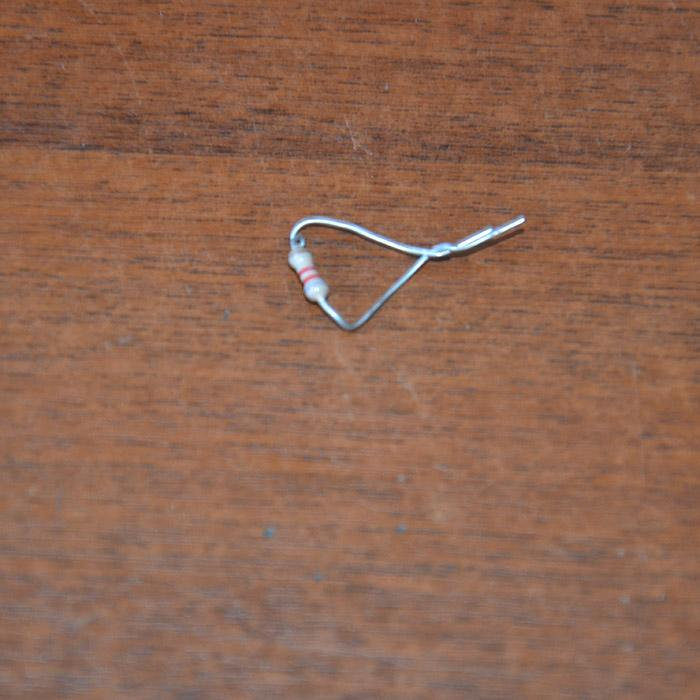resistor: (288, 243, 329, 304)
